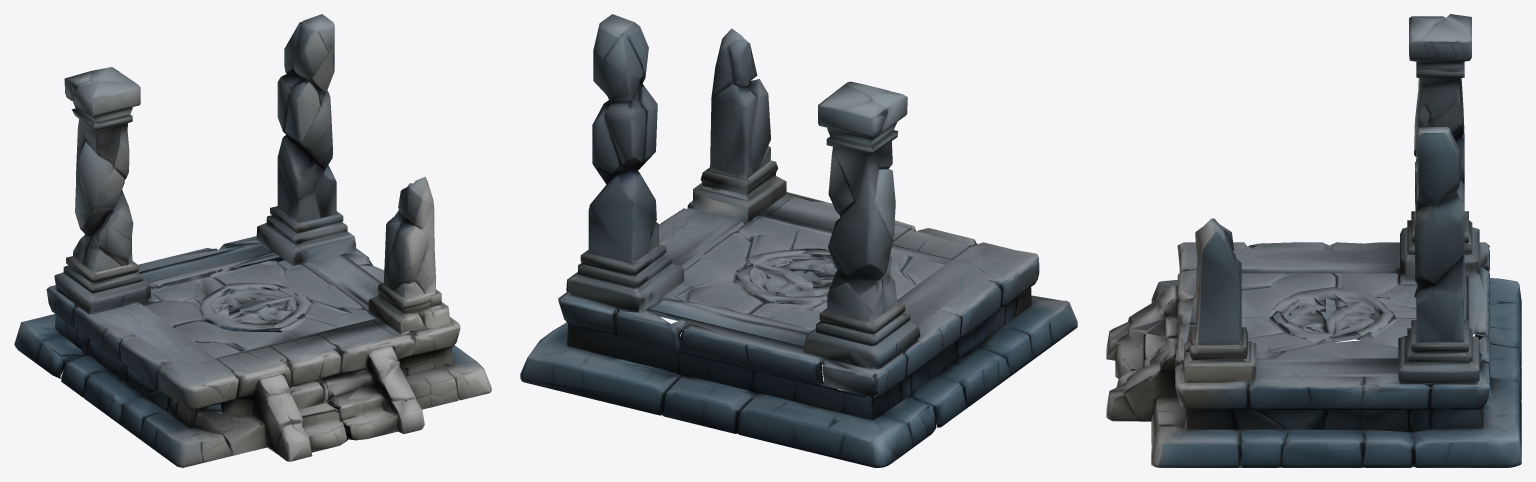
Rendered from world_shrine.glb.
3 renders of one model, left to right at view 1: azimuth 30°, elevation 25°; view 2: azimuth 150°, elevation 25°; view 3: azimuth 270°, elevation 25°, orthographic. The views are drawn at different scales.
Visible parts, largest first — view 1: material; view 2: material; view 3: material.
Boxes of the visible parts, x1=… form: material: x1=14, y1=14, x2=491, y2=467; material: x1=520, y1=14, x2=1077, y2=467; material: x1=1106, y1=14, x2=1521, y2=467.
Bounding box in the file's own units: 1.81 × 1.6 × 1.9.
1 material, 1 textured.
